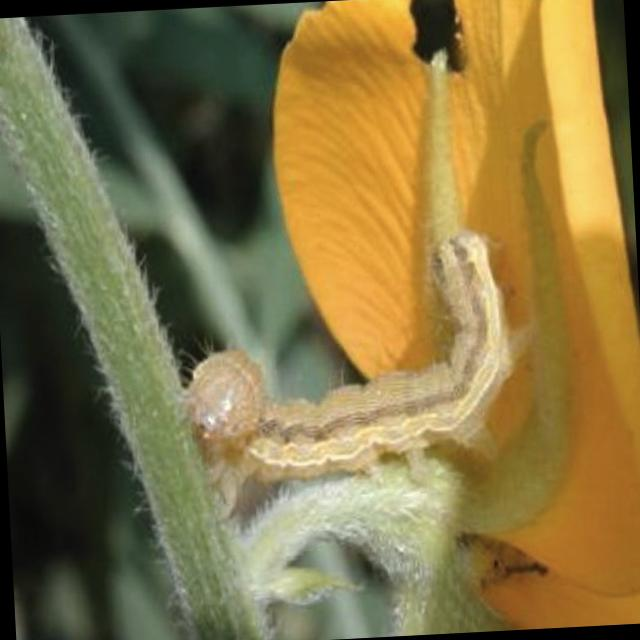Cotton bollworm: (162, 205, 540, 502)
